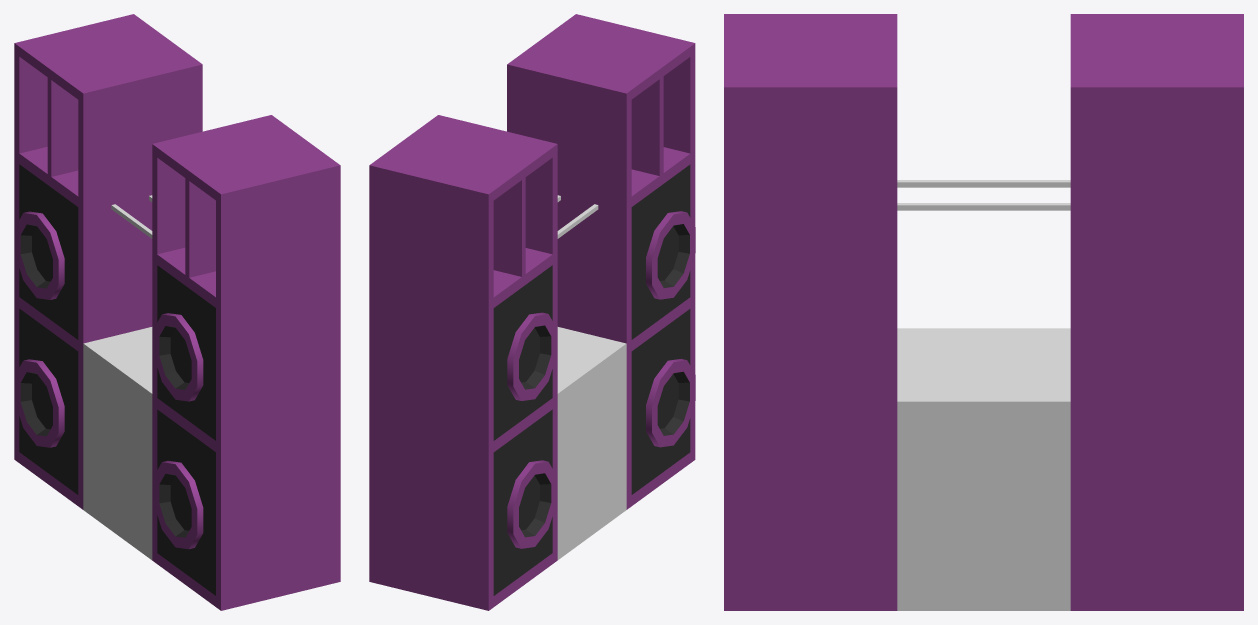
Rendered from machine quatre.FBX.
3 views of the same model, side by side, from view 1: azimuth 30°, elevation 25°; view 2: azimuth 150°, elevation 25°; view 3: azimuth 270°, elevation 25° (orthographic). The views are drawn at different scales.
Parts seen in each view (by area): view 1: meuble machine a laver simple001, meuble machine a laver simple, meuble machine a laver simple002, porte machine a laver004, porte machine a laver005, porte machine a laver002, porte machine a laver003; view 2: meuble machine a laver simple, meuble machine a laver simple001, meuble machine a laver simple002, porte machine a laver002, porte machine a laver004, porte machine a laver005, porte machine a laver003; view 3: meuble machine a laver simple, meuble machine a laver simple001, meuble machine a laver simple002, fil a linge.
Boxes of the visible parts, x1,y1,x2,y2 form: meuble machine a laver simple001: (152,115,340,610); meuble machine a laver simple: (14,14,202,509); meuble machine a laver simple002: (83,327,152,560); porte machine a laver004: (153,313,203,401); porte machine a laver005: (153,460,203,549); porte machine a laver002: (15,211,64,299); porte machine a laver003: (15,359,64,447); meuble machine a laver simple: (369,115,557,610); meuble machine a laver simple001: (507,14,695,509); meuble machine a laver simple002: (557,327,626,559); porte machine a laver002: (507,312,556,400); porte machine a laver004: (646,211,695,299); porte machine a laver005: (646,358,695,447); porte machine a laver003: (507,460,556,548); meuble machine a laver simple: (1070,14,1243,610); meuble machine a laver simple001: (724,14,897,610); meuble machine a laver simple002: (897,328,1070,610); fil a linge: (897,180,1070,210).
Bounding box in the file's own units: 66.03 × 200 × 180.
